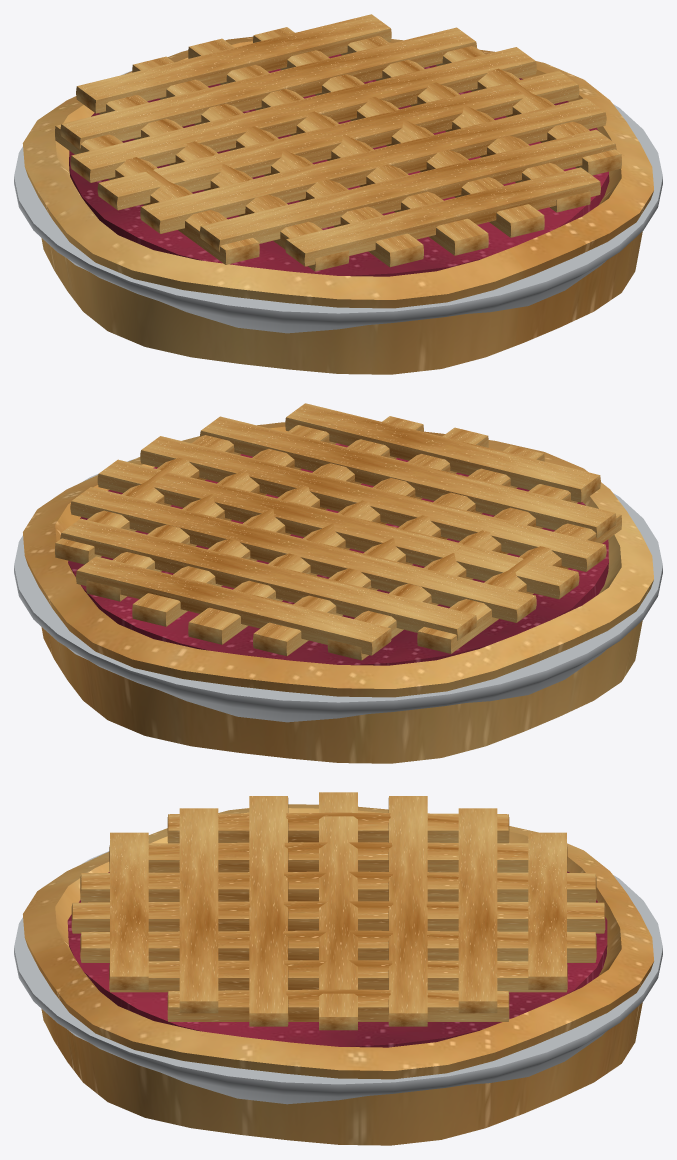
File: bakery_pie_apple_lattice.glb
The picture shows the model from 3 angles, top to bottom: view 1: azimuth 30°, elevation 25°; view 2: azimuth 150°, elevation 25°; view 3: azimuth 270°, elevation 25°; orthographic projection.
Visible parts, largest first — view 1: bakery_pie_apple_lattice; view 2: bakery_pie_apple_lattice; view 3: bakery_pie_apple_lattice.
Boxes of the visible parts, x1,y1,x2,y2 form: bakery_pie_apple_lattice: (14, 14, 662, 374); bakery_pie_apple_lattice: (14, 403, 662, 763); bakery_pie_apple_lattice: (14, 792, 662, 1145).
Size of the model in its own units: 0.242 by 0.0535 by 0.242.
3 materials, 2 textured.
